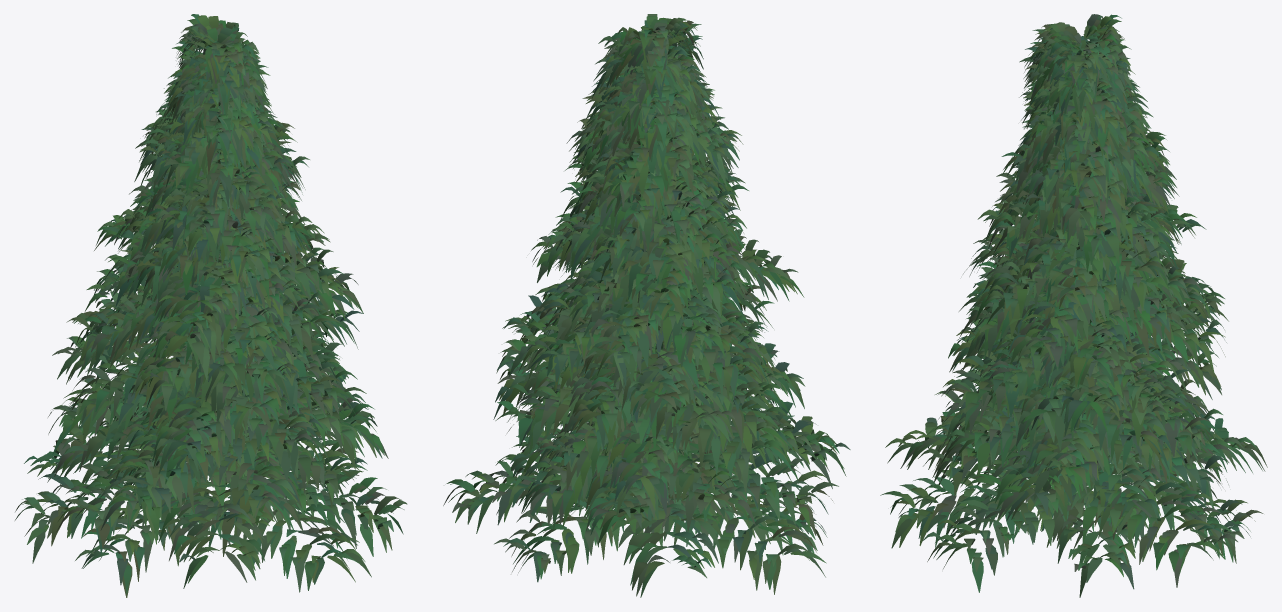
The model's file is SM_ConiferCanopy.fbx.
3 views of the same model, side by side, from view 1: azimuth 30°, elevation 25°; view 2: azimuth 150°, elevation 25°; view 3: azimuth 270°, elevation 25° (orthographic).
Parts seen in each view (by area): view 1: SM_ConiferCanopy; view 2: SM_ConiferCanopy; view 3: SM_ConiferCanopy.
Part boxes in pixels (<box>): SM_ConiferCanopy: <box>15,14,407,597</box>; SM_ConiferCanopy: <box>443,14,850,597</box>; SM_ConiferCanopy: <box>880,14,1267,597</box>.
Size of the model in its own units: 1082 by 1050 by 1546.
